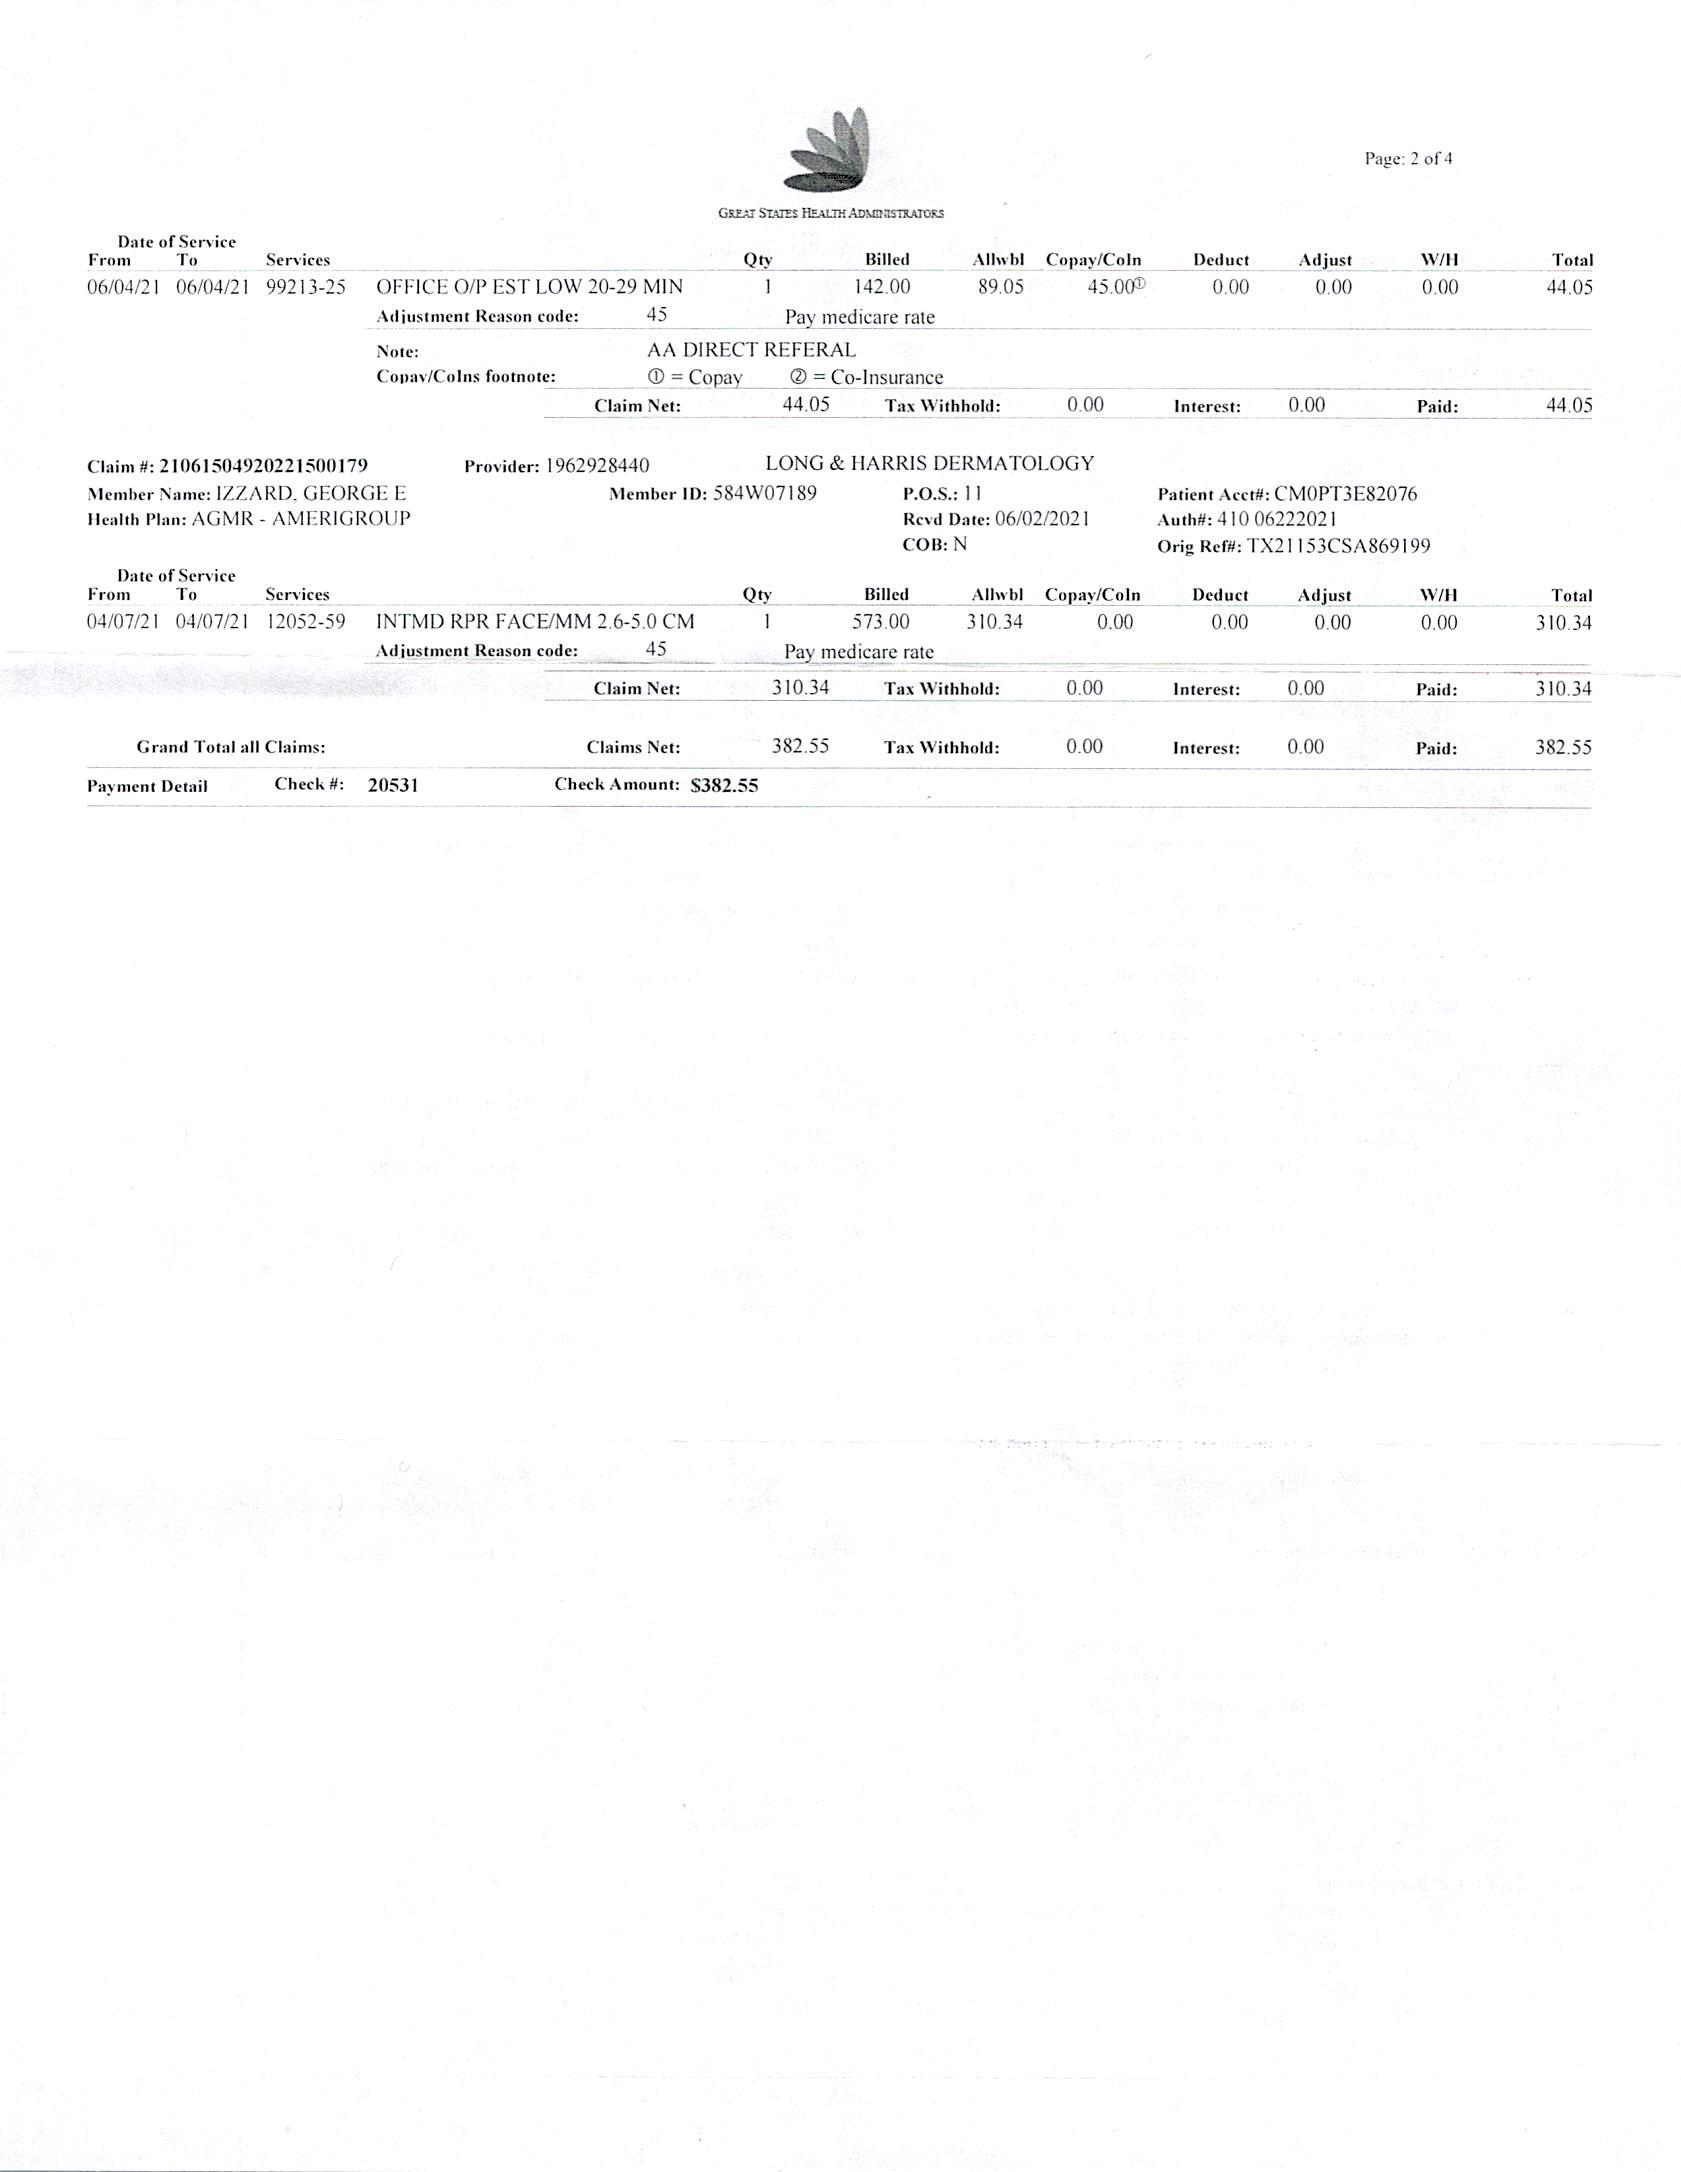data: (453, 437, 1108, 552), (74, 435, 422, 538), (1138, 464, 1441, 562)
table: (69, 548, 1609, 677), (72, 219, 1602, 312)
